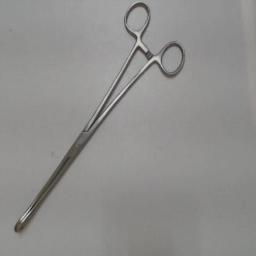Sponge Forceps: (12, 0, 188, 242)
